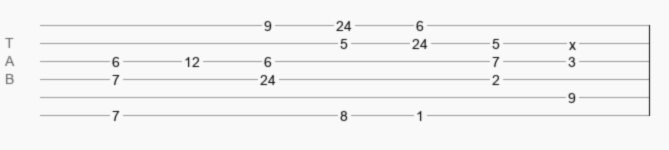1: (416, 108, 424, 118)
12: (184, 54, 200, 64)
2: (492, 72, 500, 82)
24: (260, 72, 276, 82), (336, 18, 352, 28), (412, 36, 428, 46)
3: (568, 54, 576, 64)
5: (340, 36, 348, 46), (492, 36, 500, 46)
6: (112, 54, 120, 64), (264, 54, 272, 64), (416, 18, 424, 28)
7: (112, 108, 120, 118), (112, 72, 120, 82), (492, 54, 500, 64)
8: (340, 108, 348, 118)
9: (264, 18, 272, 28), (568, 90, 576, 100)
x: (569, 37, 576, 45)
